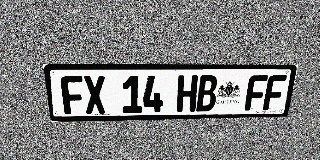1: (121, 75, 142, 113)
4: (143, 75, 164, 113)
B: (196, 75, 218, 112)
F: (60, 76, 85, 114), (244, 75, 268, 111), (263, 75, 287, 110)
H: (176, 75, 198, 112)
X: (83, 76, 106, 114)
